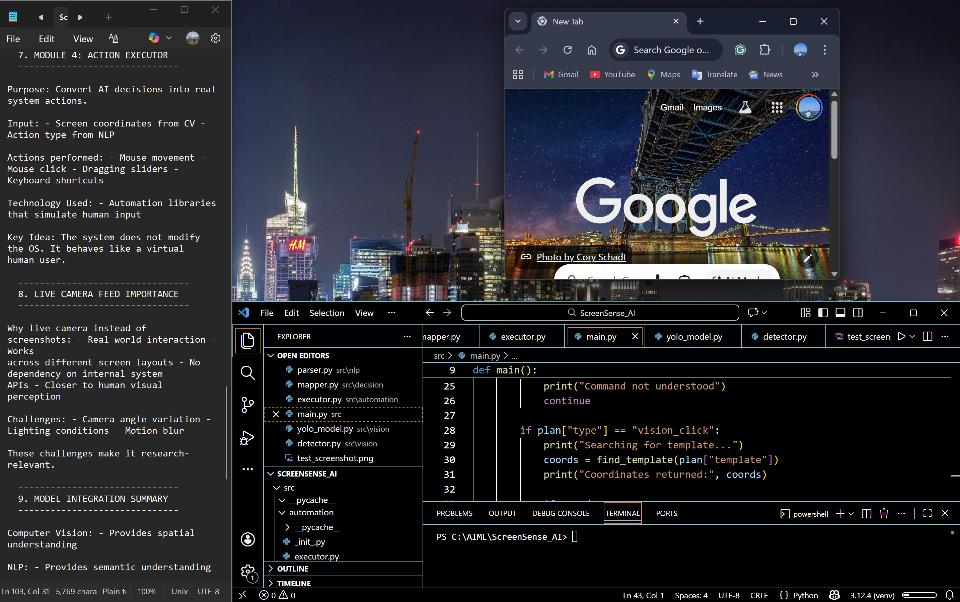close_button: (813, 8, 835, 33), (935, 303, 958, 324), (206, 0, 226, 24)
maximize_button: (782, 8, 807, 33), (173, 1, 198, 24), (901, 303, 927, 323)
minimize_button: (747, 8, 775, 33), (143, 0, 167, 23), (873, 302, 894, 323)
